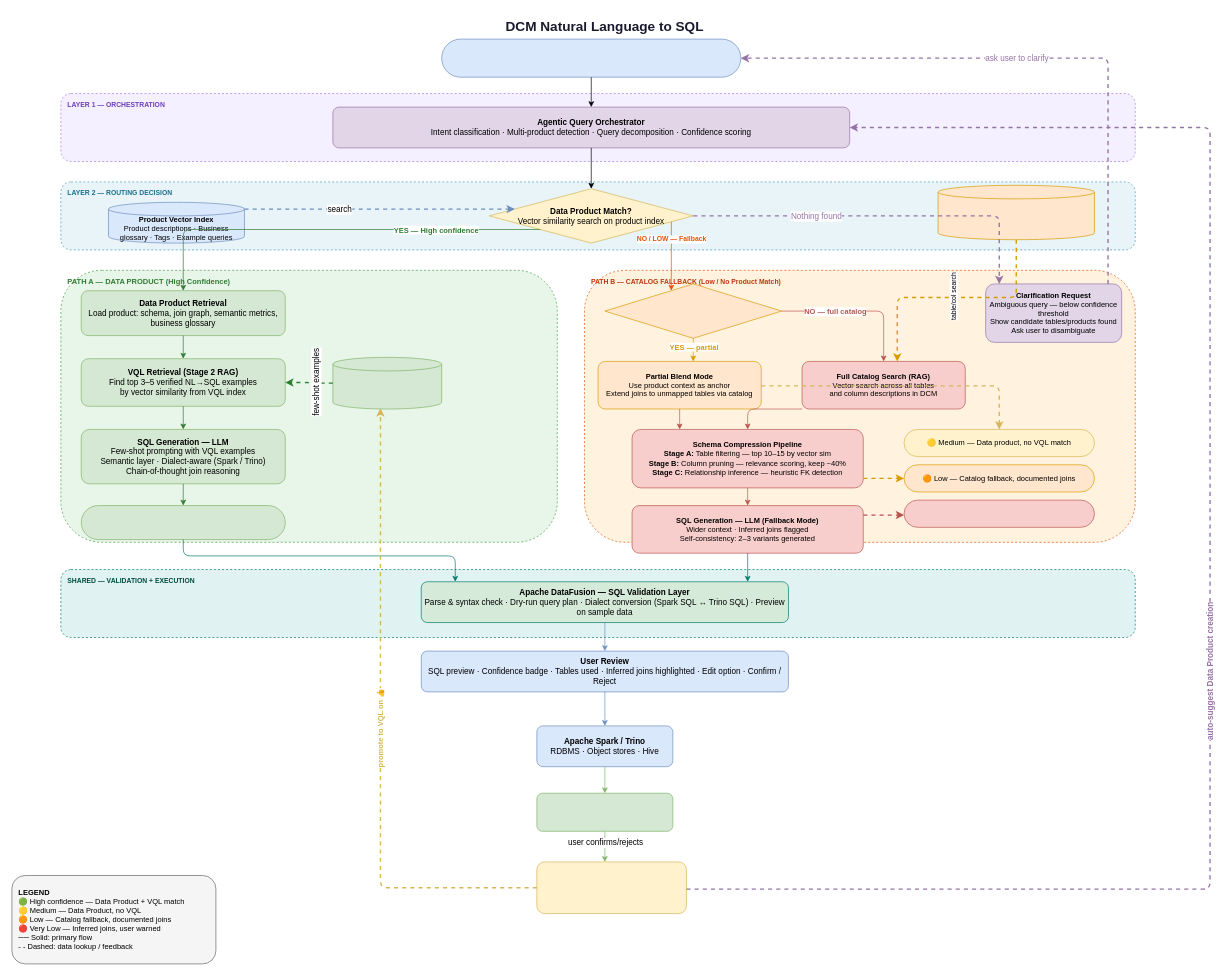
Image size: 1228x976. Some labels were removed from this diagram. The shapes that lost their labels are listed below. From the top down, each one's box as (x1, y1, x2, y2) in pixels, then its label:
(441, 38, 741, 77): User Natural Language Query e.g. "Show me total revenue by region last quarter"
(937, 185, 1094, 240): DCM Full Catalog All DBs · Hive · RDBMS · Tables · Columns · Data types
(604, 283, 782, 338): Partial Product Match? Use product as anchor + extend to catalog
(332, 357, 442, 409): VQL Index Verified NL→SQL pairs per product
(81, 505, 285, 540): High Confidence Result 🟢 Green badge — trusted output
(903, 499, 1094, 527): 🔴 Very Low — Inferred joins · User warned
(536, 793, 673, 831): Query Results Returned to user
(536, 861, 686, 914): Feedback Capture 👍 Promote to VQL 👎 Flag for review 📊 Auto-suggest Data Product
